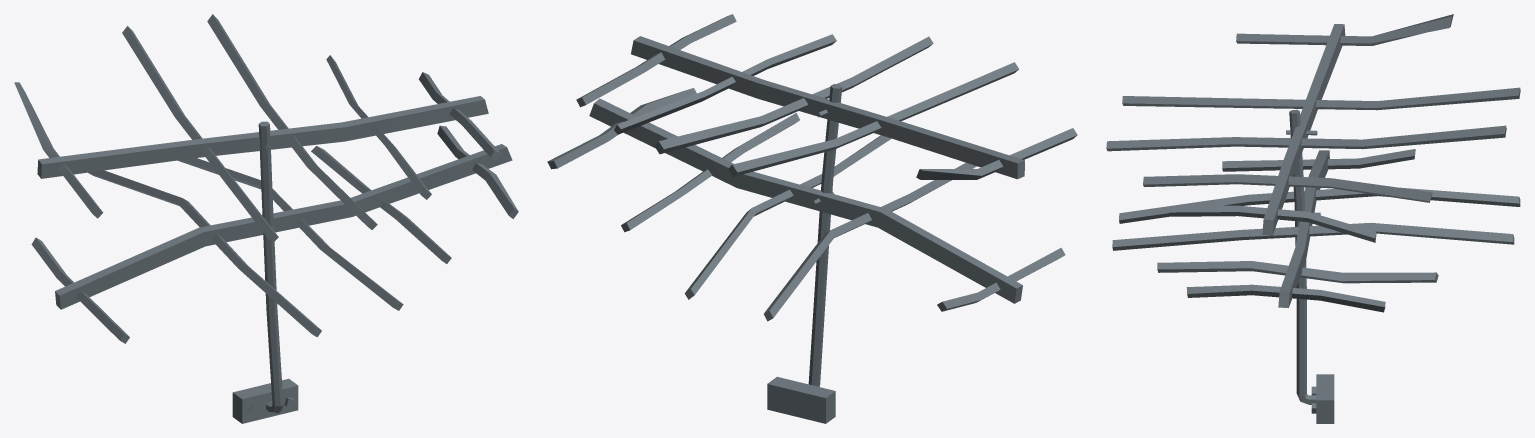
The model's file is SM_Prop_TV_Antenna_01.fbx.
The picture shows the model from 3 angles, left to right: view 1: azimuth 30°, elevation 25°; view 2: azimuth 150°, elevation 25°; view 3: azimuth 270°, elevation 25°; orthographic projection. The views are drawn at different scales.
Visible parts, largest first — view 1: SM_Prop_TV_Antenna_01; view 2: SM_Prop_TV_Antenna_01; view 3: SM_Prop_TV_Antenna_01.
Boxes of the visible parts, x1=… form: SM_Prop_TV_Antenna_01: x1=14, y1=14, x2=518, y2=423; SM_Prop_TV_Antenna_01: x1=547, y1=14, x2=1077, y2=423; SM_Prop_TV_Antenna_01: x1=1106, y1=14, x2=1520, y2=423.
Size of the model in its own units: 202 by 143 by 172.
